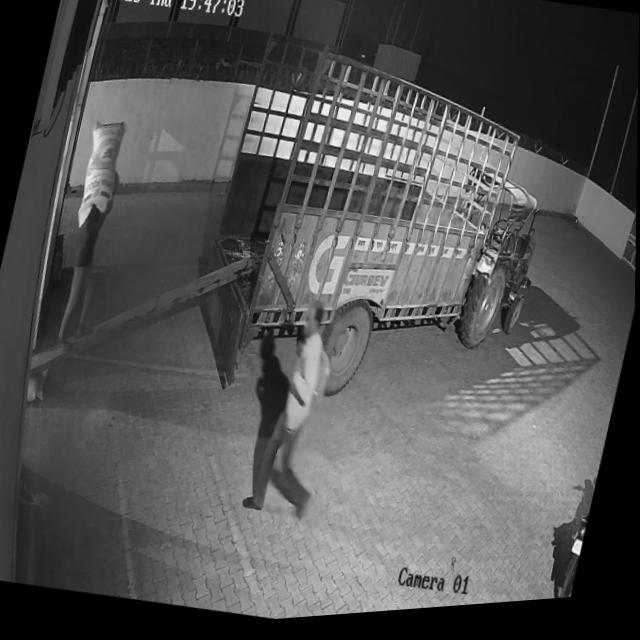sack: (72, 118, 130, 232)
